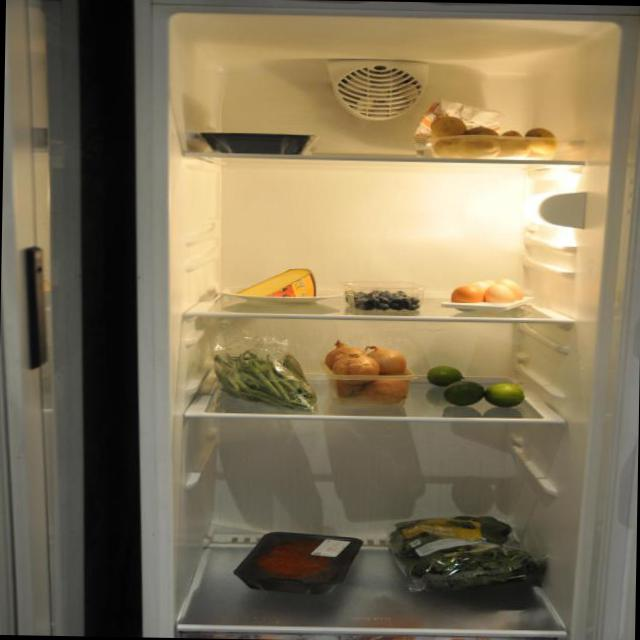Carne vacuno: (246, 530, 346, 590)
Cebolla: (322, 341, 418, 412)
Huevos: (452, 276, 527, 315)
Patata: (429, 114, 558, 162)
Queso: (236, 266, 322, 302)
blueberries: (344, 285, 422, 310)
green_beans: (200, 338, 320, 411)
spinach: (384, 510, 546, 598)
